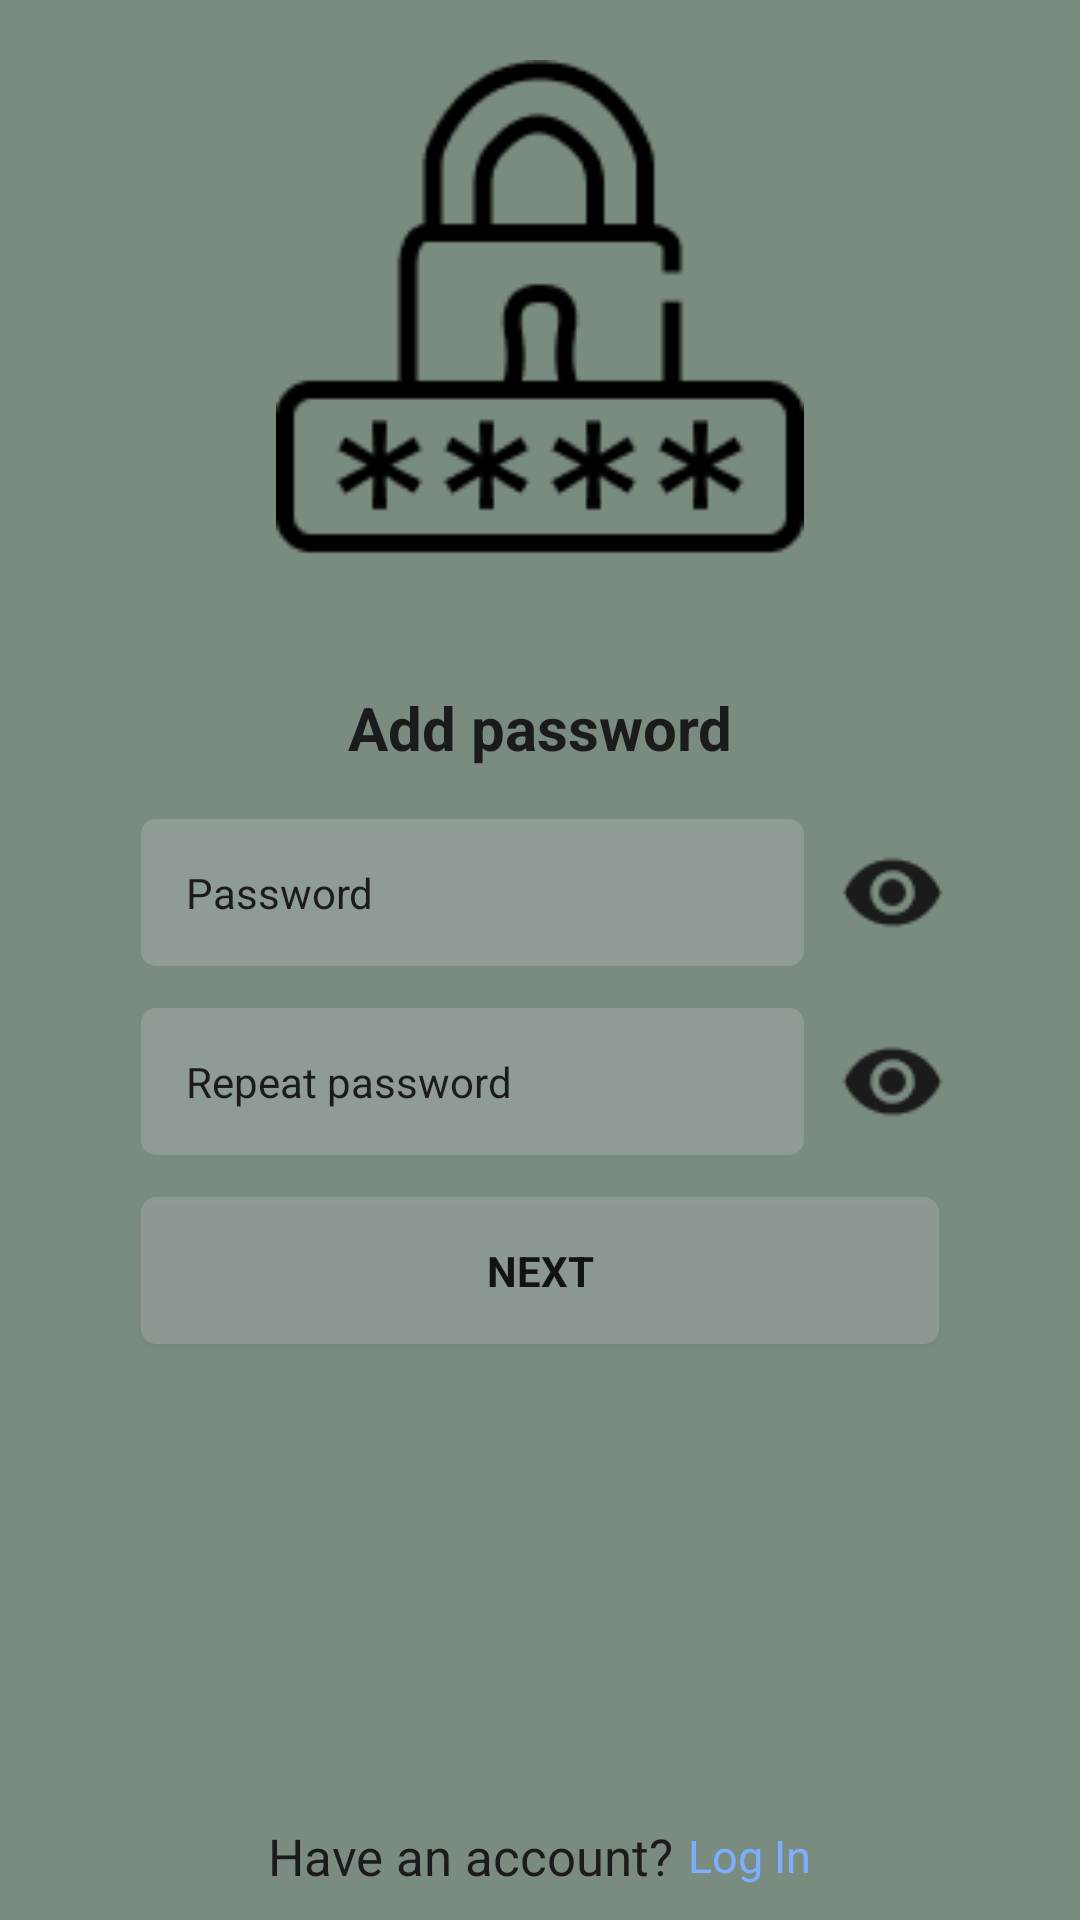

Locate icon controls on the screen. Image size 1080w x 1920h, boxes as Rect(x1, y1, x2, y2).
eye: Rect(843, 858, 942, 927), Rect(843, 1047, 942, 1116)
